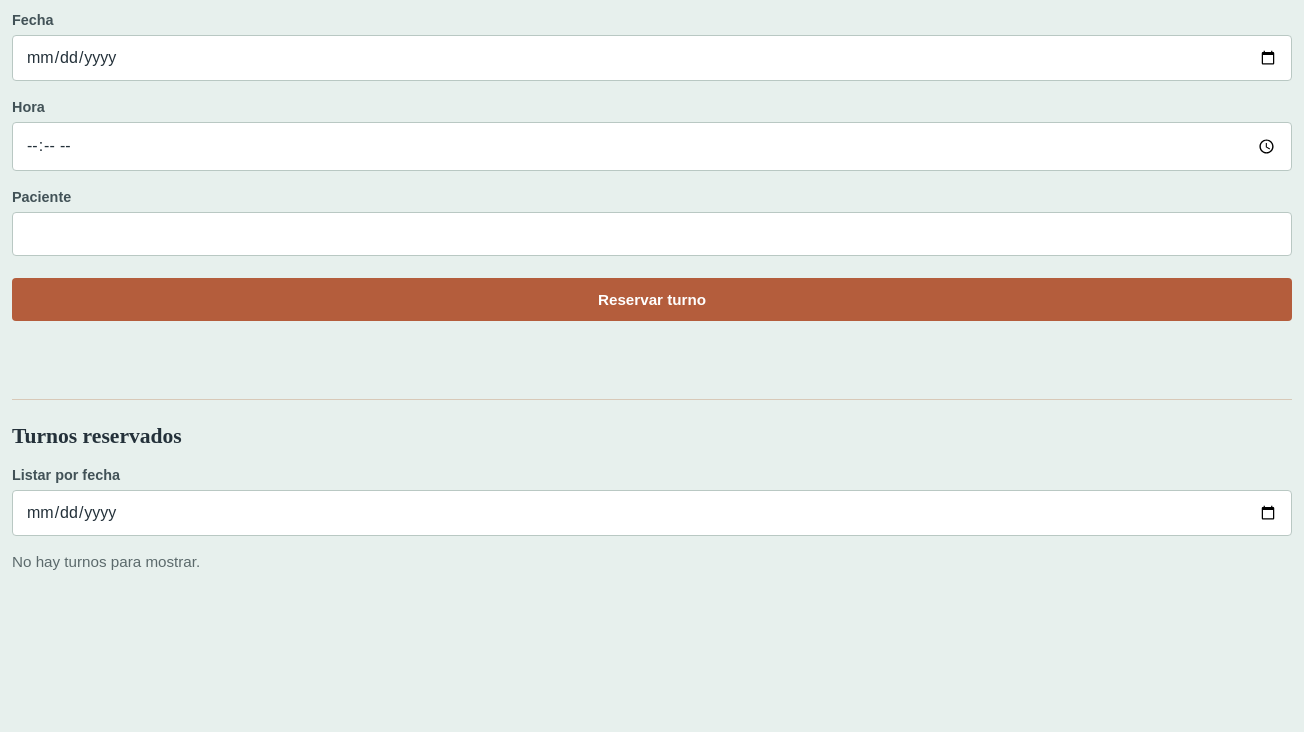
Test: FormularioTurno › muestra un error si el paciente está vacío
In the date field labelled "Fecha": (652, 58) [12,35,1292,81], type "2026-09-01"
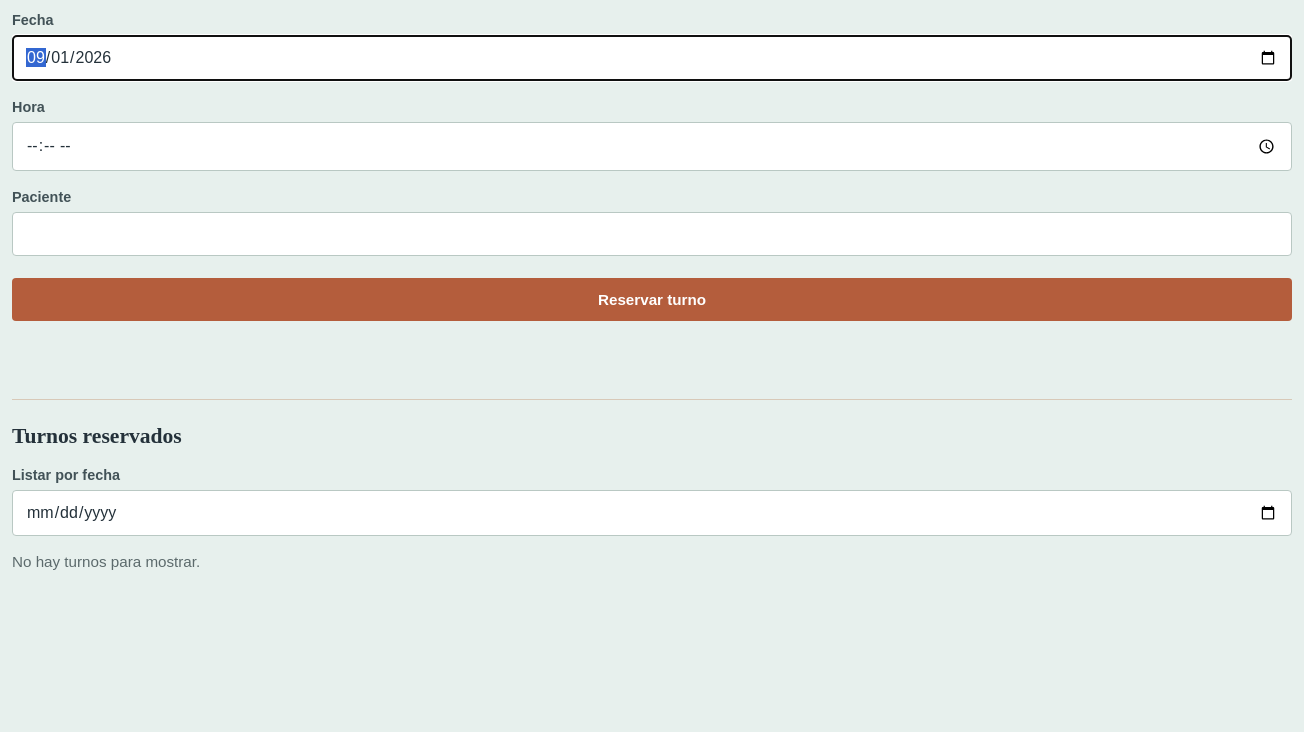
In the time field labelled "Hora": (652, 146) [12,122,1292,171], type "10:30"
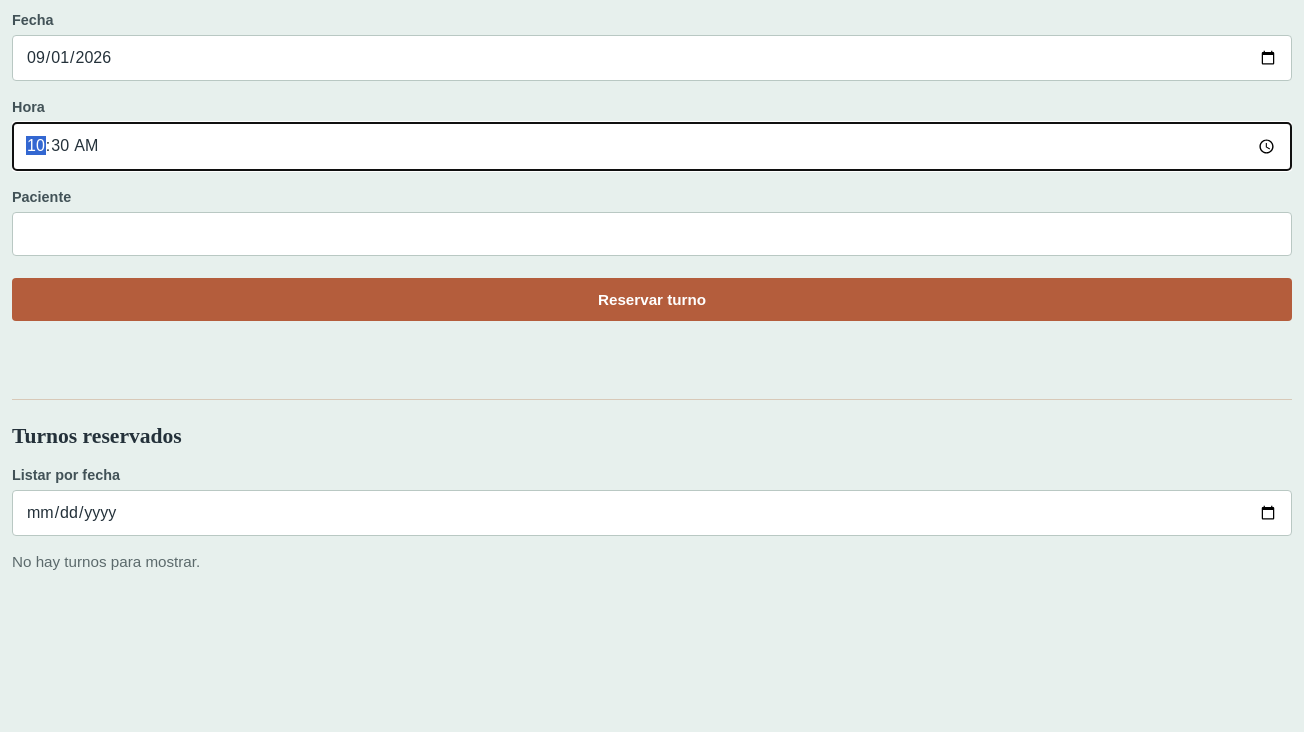
Click the button "Reservar turno": (652, 299) [12,278,1292,321]
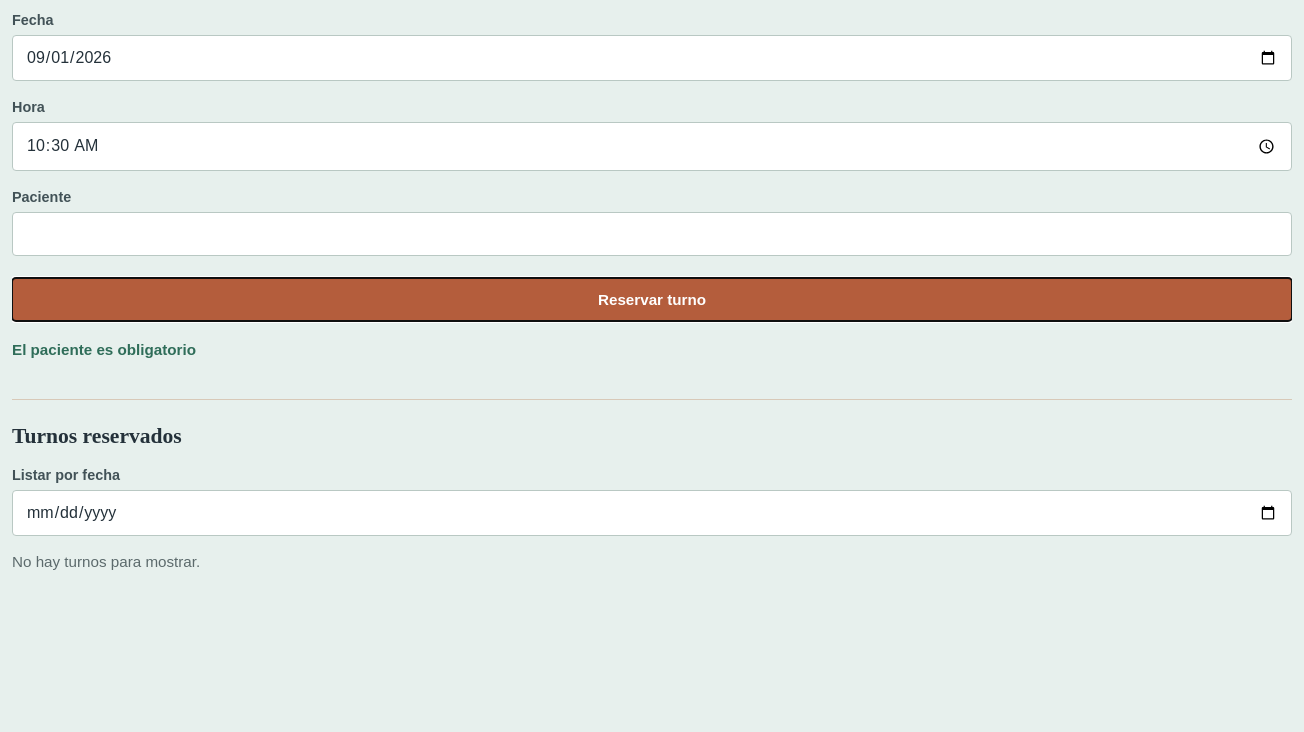
expect the text "El paciente es obligatorio" is shown: met, box [12,341,196,358]
